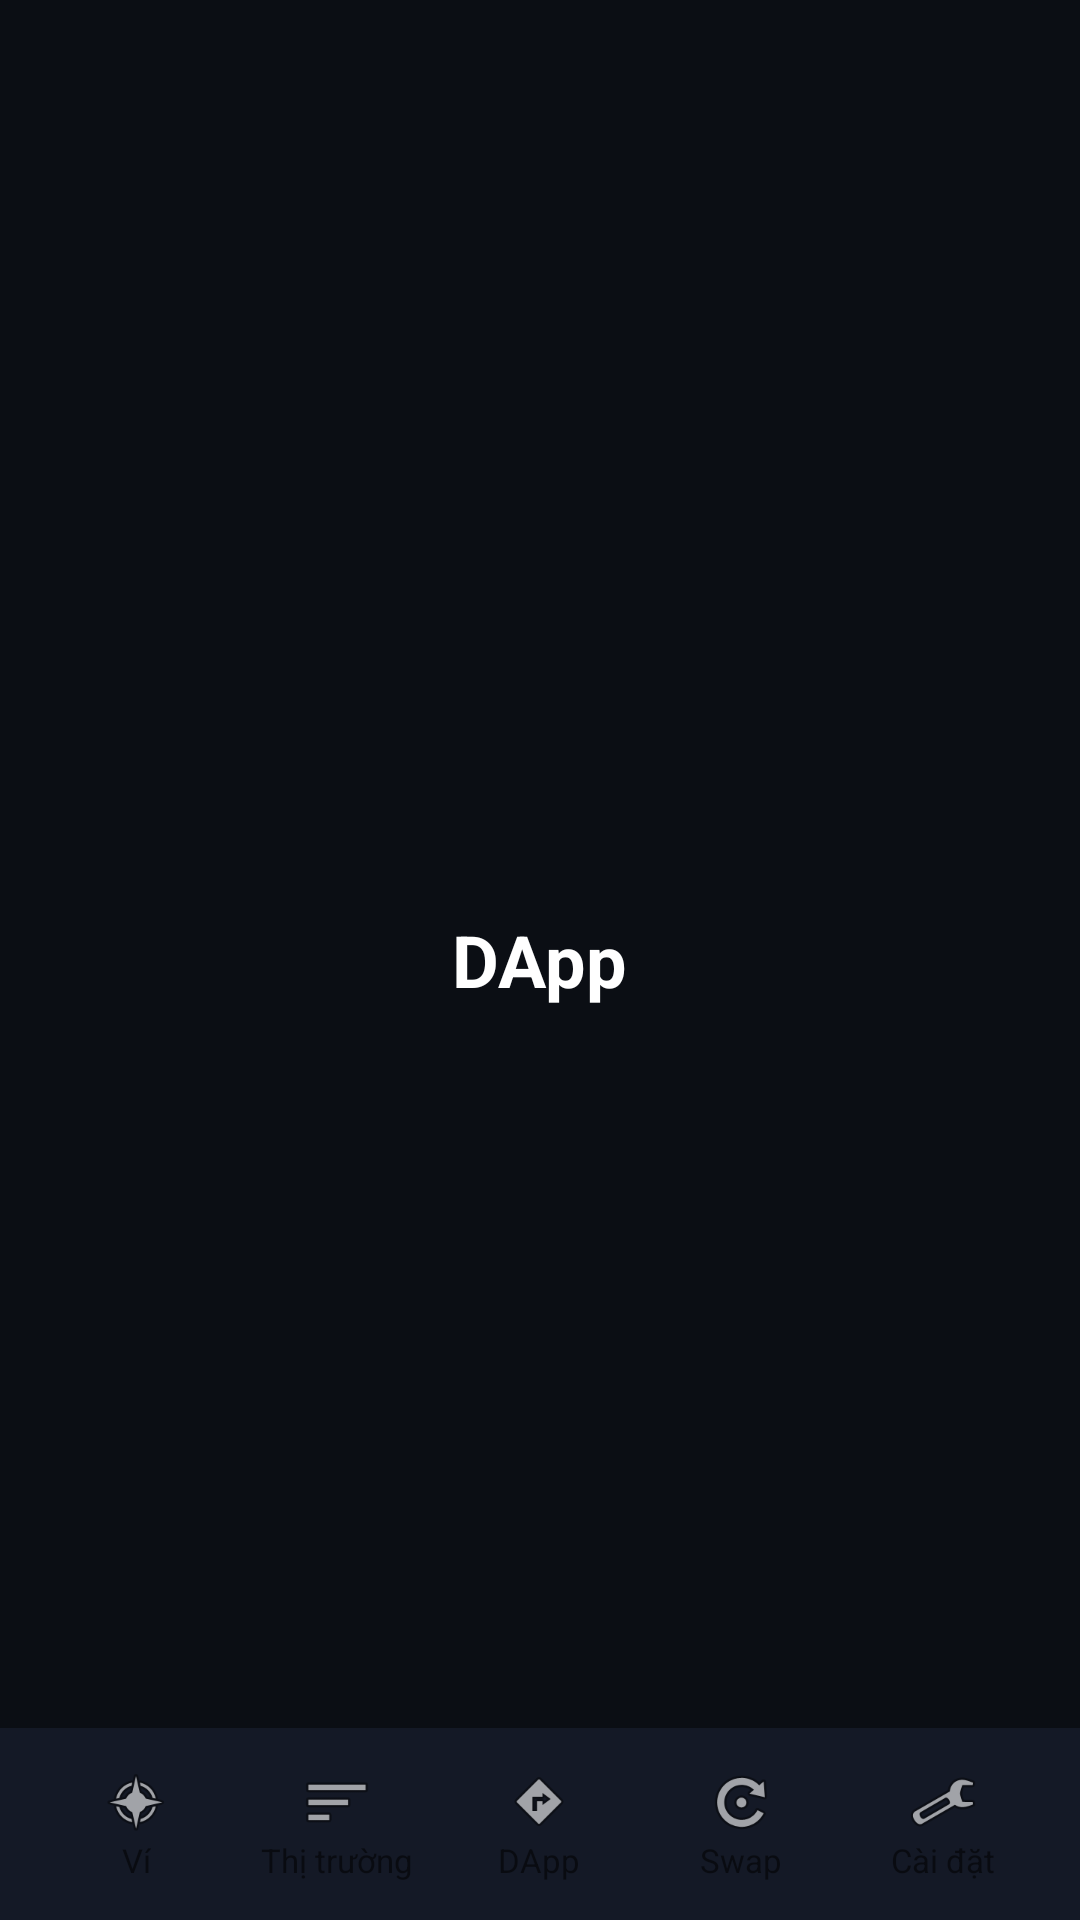

Screen size 1080 x 1920. Icon name, then its box in pixels as (x1=x1, y1=y1, x2=x2, y2=y2):
compass: (x1=110, y1=1777, x2=162, y2=1828)
directions: (x1=516, y1=1779, x2=562, y2=1824)
rotate: (x1=717, y1=1778, x2=765, y2=1827)
sort by size: (x1=308, y1=1784, x2=366, y2=1820)
